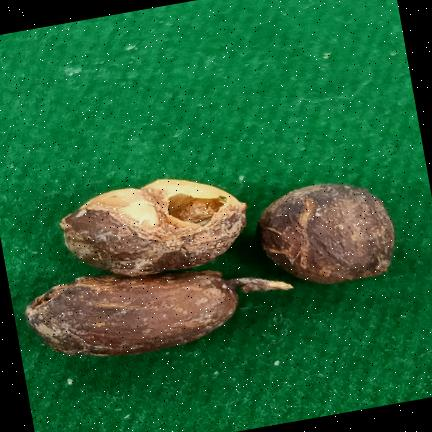full-black: (25, 271, 292, 356), (60, 179, 246, 276), (257, 184, 394, 283)
